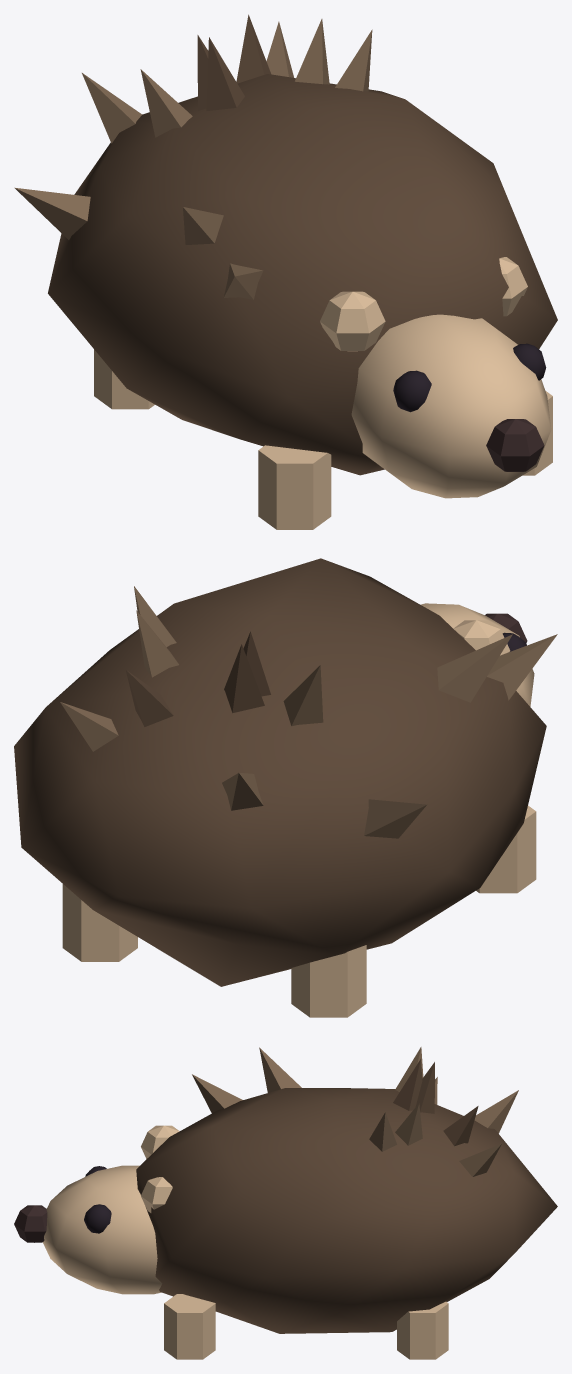
Rendered from critter_hedgehog.glb.
3 renders of one model, top to bottom at view 1: azimuth 30°, elevation 25°; view 2: azimuth 150°, elevation 25°; view 3: azimuth 270°, elevation 25°, orthographic. The views are drawn at different scales.
Parts seen in each view (by area): view 1: critter_hedgehog; view 2: critter_hedgehog; view 3: critter_hedgehog.
Part boxes in pixels (bbox=[...]): critter_hedgehog: bbox=[14, 14, 557, 529]; critter_hedgehog: bbox=[14, 558, 557, 1017]; critter_hedgehog: bbox=[14, 1047, 557, 1359].
Size of the model in its own units: 0.268 by 0.2063 by 0.4205.
